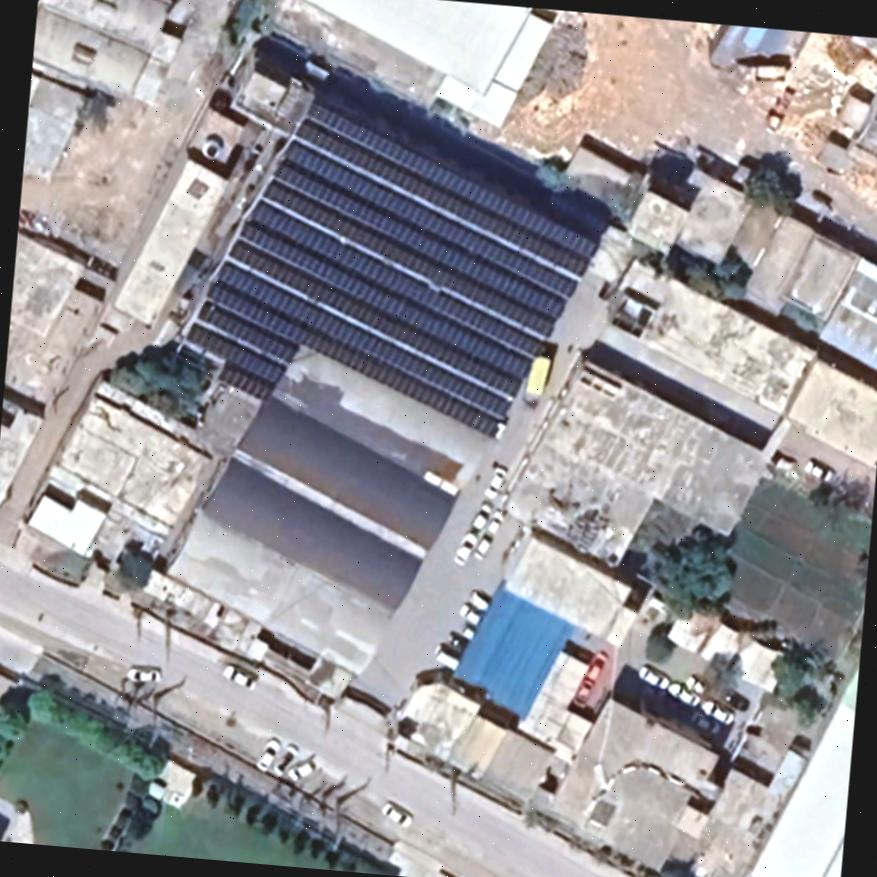Solarpanel: (162, 89, 613, 506)
